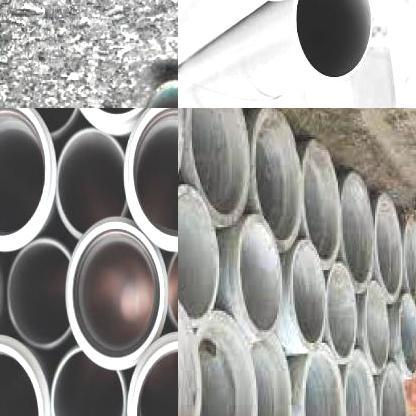pipe: (66, 218, 168, 371), (52, 125, 128, 240), (0, 108, 56, 251), (124, 108, 178, 252), (184, 108, 251, 223), (250, 108, 304, 250), (190, 309, 261, 416), (6, 239, 70, 348), (230, 212, 284, 340), (294, 0, 373, 80), (178, 183, 223, 322), (300, 139, 344, 262), (50, 346, 125, 416), (288, 239, 329, 353), (341, 170, 378, 292), (126, 331, 178, 416), (0, 334, 51, 416), (323, 260, 358, 364), (300, 339, 346, 416), (360, 278, 392, 376), (374, 192, 404, 296), (253, 333, 290, 416), (67, 108, 169, 136), (340, 347, 381, 416), (377, 358, 410, 416), (161, 234, 178, 341), (396, 295, 416, 383), (400, 211, 416, 311)
